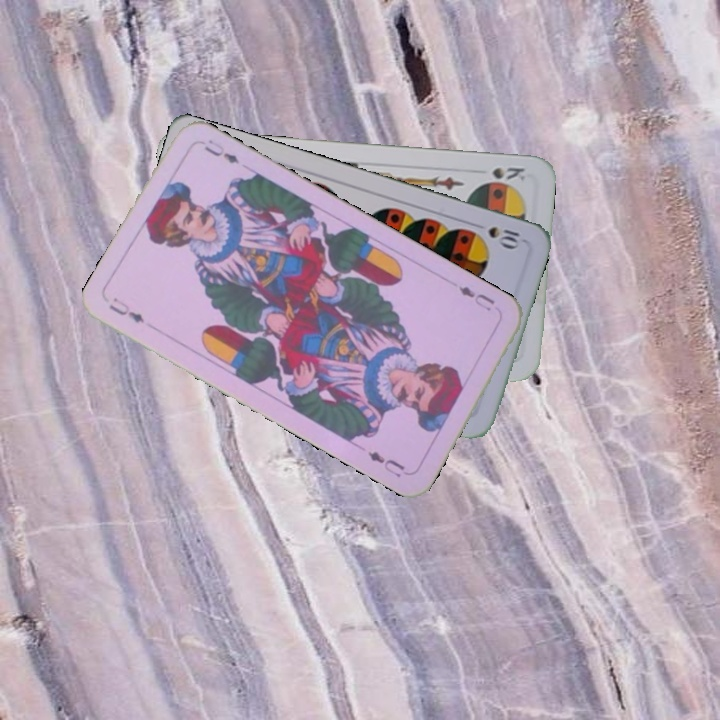EU: (105, 293, 147, 326), (454, 282, 497, 314)
S10: (468, 218, 523, 252)
SK: (488, 163, 528, 184)
